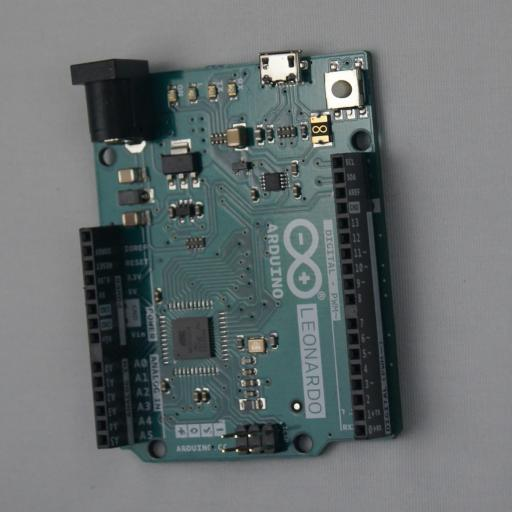Arduino Leonardo: (70, 49, 424, 463)
